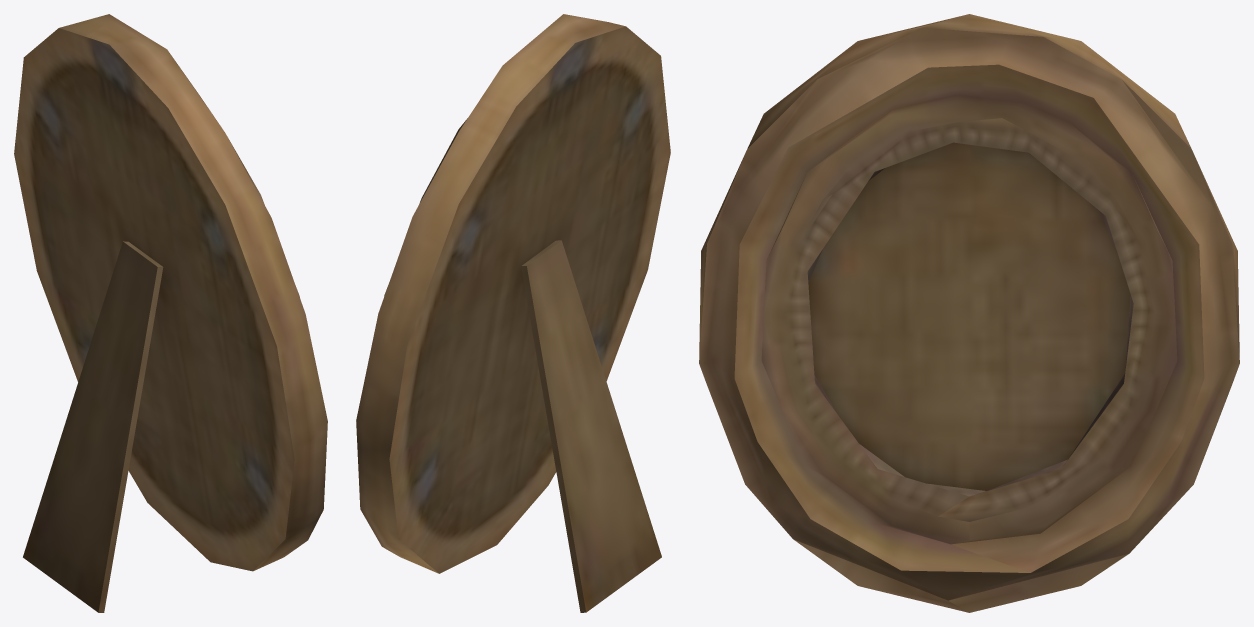
The model's file is photo-frame-b.lod1.glb.
3 renders of one model, left to right at view 1: azimuth 30°, elevation 25°; view 2: azimuth 150°, elevation 25°; view 3: azimuth 270°, elevation 25°, orthographic. The views are drawn at different scales.
Parts seen in each view (by area): view 1: photo-frame-b; view 2: photo-frame-b; view 3: photo-frame-b.
Part boxes in pixels (x1,y1,x2,y2): photo-frame-b: (14,14,327,612); photo-frame-b: (356,14,670,612); photo-frame-b: (699,14,1239,612).
Size of the model in its own units: 0.0482 by 0.1393 by 0.1252.
Materials: 1 (1 with a texture image).
